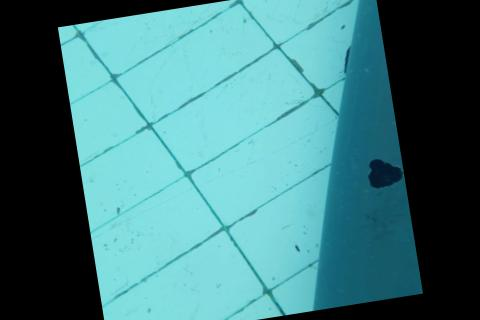kebocoran: (363, 153, 406, 192)
